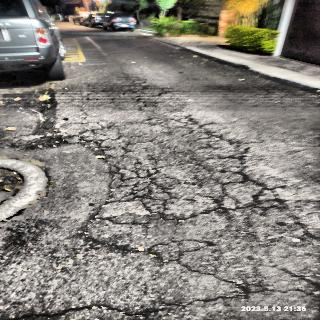alligator-crack: (64, 112, 286, 272)
crack: (1, 298, 205, 320)
